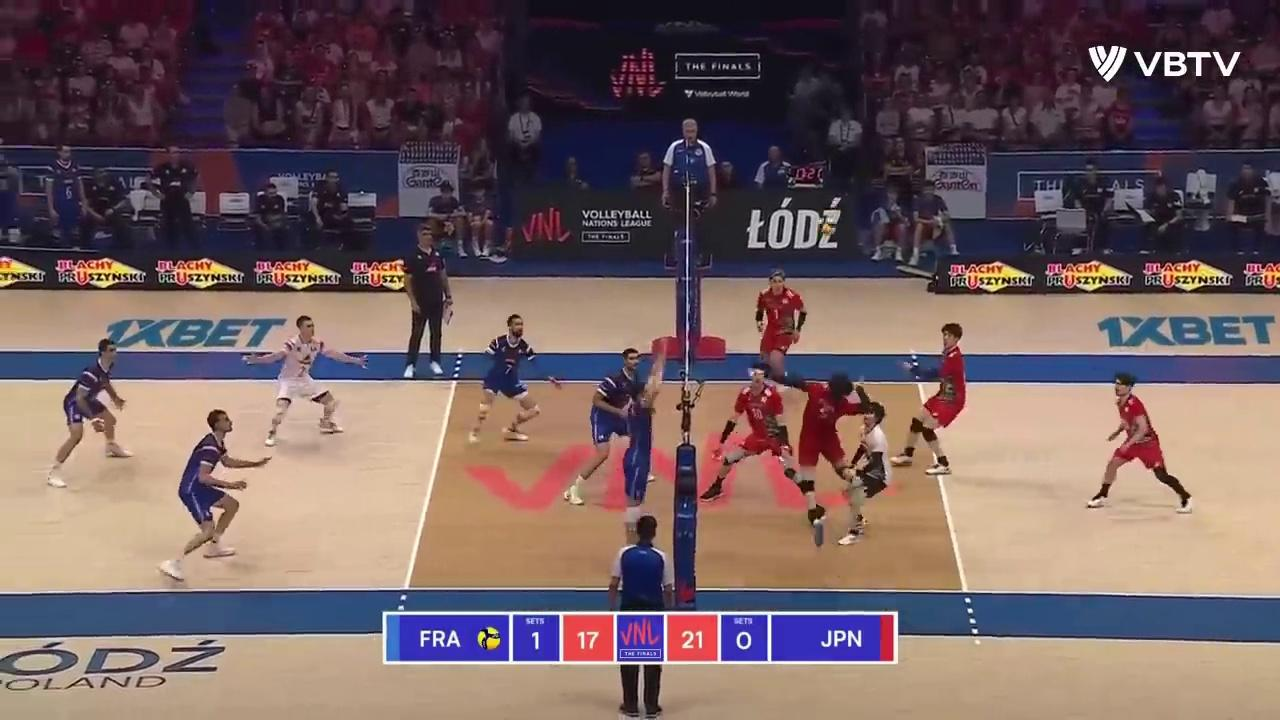ball: (820, 222, 832, 235)
